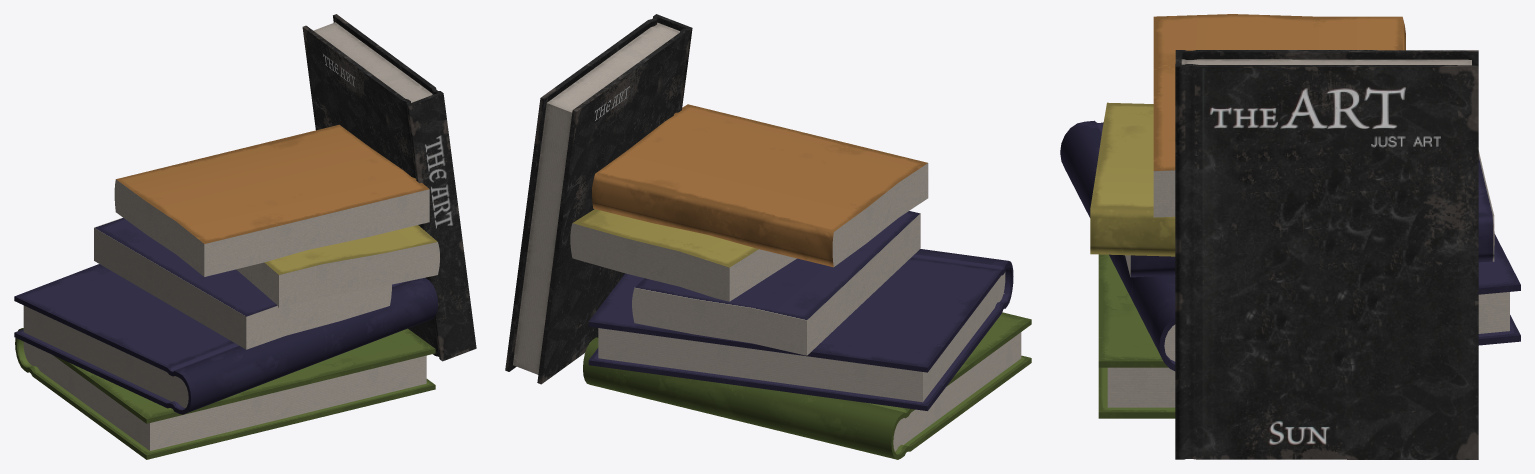
The model's file is SM_Book_Stack_06.fbx.
3 views of the same model, side by side, from view 1: azimuth 30°, elevation 25°; view 2: azimuth 150°, elevation 25°; view 3: azimuth 270°, elevation 25° (orthographic). The views are drawn at different scales.
Parts seen in each view (by area): view 1: SM_Book_Stack_06_LOD0; view 2: SM_Book_Stack_06_LOD0; view 3: SM_Book_Stack_06_LOD0.
Part boxes in pixels (bbox=[...]): SM_Book_Stack_06_LOD0: bbox=[14, 14, 476, 459]; SM_Book_Stack_06_LOD0: bbox=[505, 14, 1031, 459]; SM_Book_Stack_06_LOD0: bbox=[1060, 14, 1520, 459].
Bounding box in the file's own units: 41.43 × 31.32 × 28.28.
